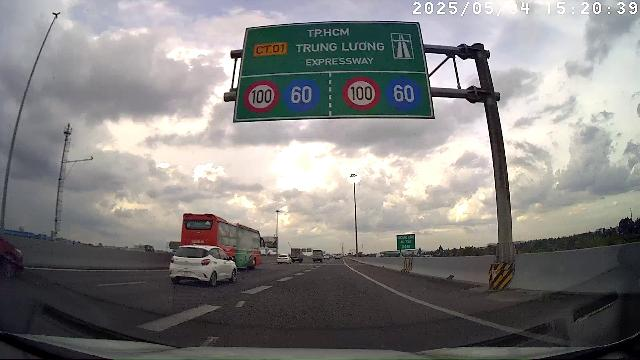127-toc-do-toi-da-100: (342, 75, 381, 110), (243, 79, 280, 113)
306-toc-do-toi-thieu-60: (283, 76, 321, 112), (384, 75, 422, 111)
437-bat-dau-duong-cao-toc: (389, 30, 416, 61)
